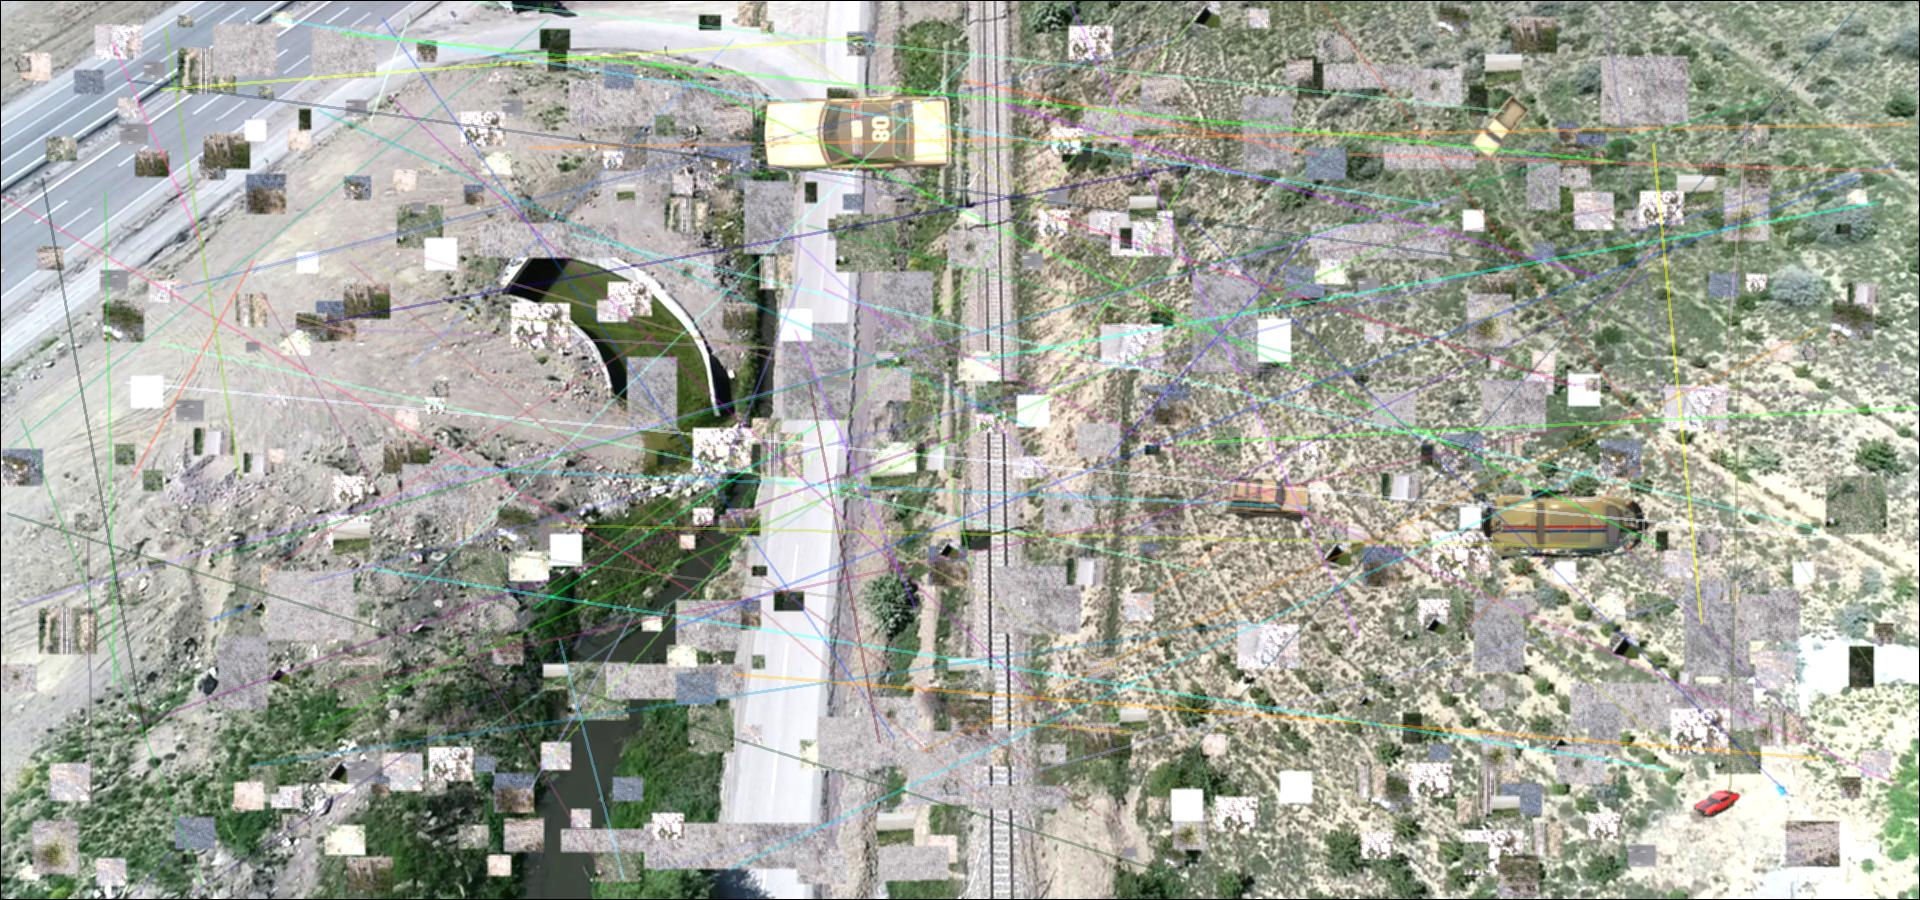arac: (758, 94, 954, 175), (1478, 489, 1652, 563), (1224, 475, 1314, 523), (1468, 96, 1533, 160), (1693, 790, 1741, 817)
